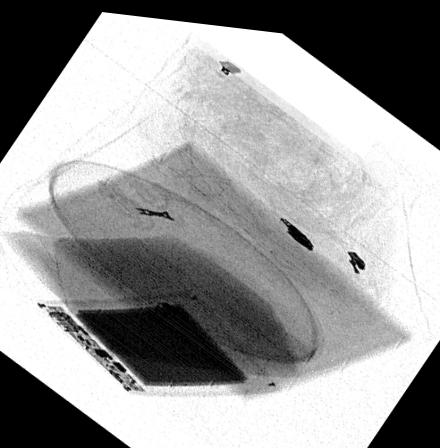Powerbank: (32, 285, 281, 391)
